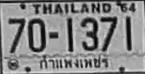0: (27, 18, 47, 52)
1: (66, 17, 74, 52), (125, 15, 132, 52)
3: (80, 16, 99, 52)
7: (7, 17, 25, 53), (100, 16, 118, 51)
KPT: (37, 54, 109, 70)
